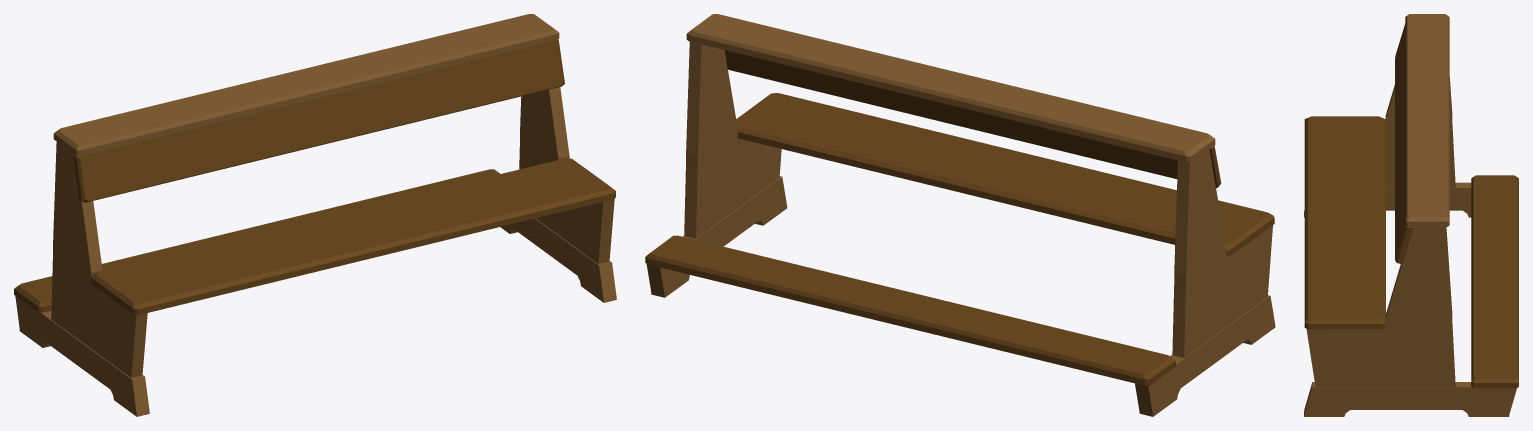
Rendered from BancoEscenario3.fbx.
3 renders of one model, left to right at view 1: azimuth 30°, elevation 25°; view 2: azimuth 150°, elevation 25°; view 3: azimuth 270°, elevation 25°, orthographic. The views are drawn at different scales.
Parts seen in each view (by area): view 1: Box003; view 2: Box003; view 3: Box003.
Part boxes in pixels (box(x1,y1,x2,y2)): Box003: box(14, 14, 616, 416); Box003: box(645, 14, 1275, 416); Box003: box(1304, 14, 1518, 416).
Bounding box in the file's own units: 150 × 67.31 × 65.94.
